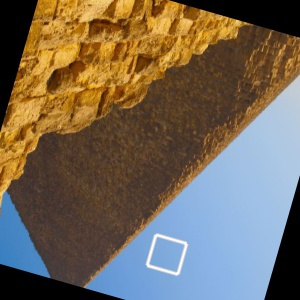square: (144, 231, 189, 278)
